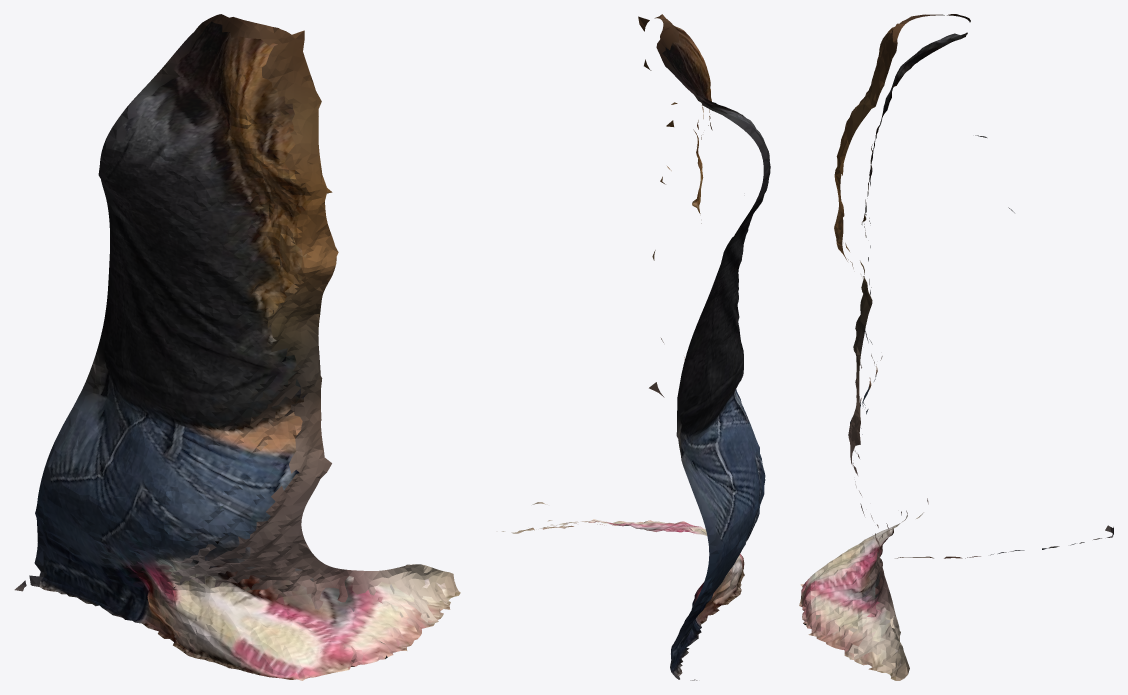
3 renders of one model, left to right at view 1: azimuth 30°, elevation 25°; view 2: azimuth 150°, elevation 25°; view 3: azimuth 270°, elevation 25°, orthographic. The views are drawn at different scales.
Size of the model in its own units: 0.4652 by 0.8091 by 0.4021.
1 material, 1 textured.
